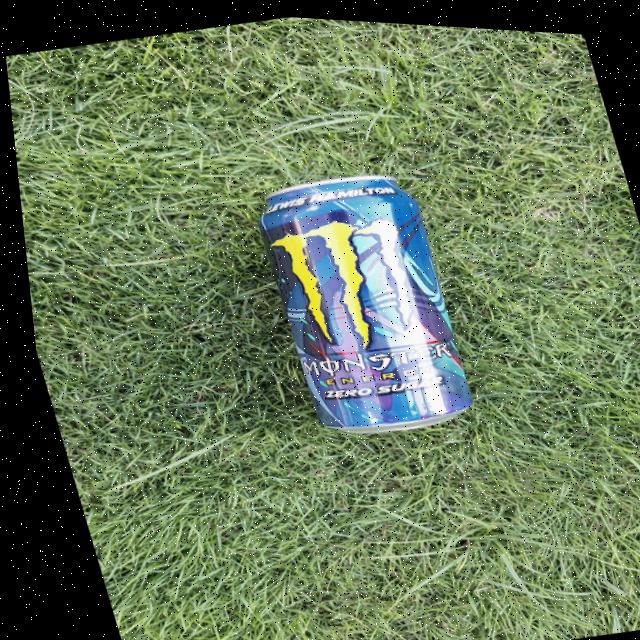Monster LH44: (223, 150, 488, 452)
